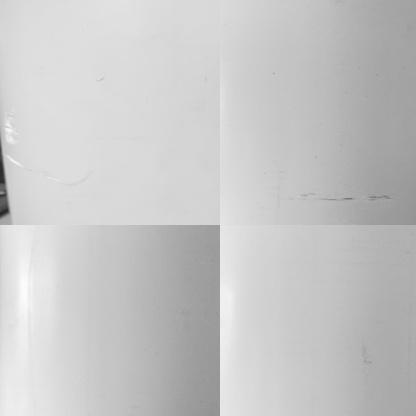sunshang: (1, 114, 20, 147)
